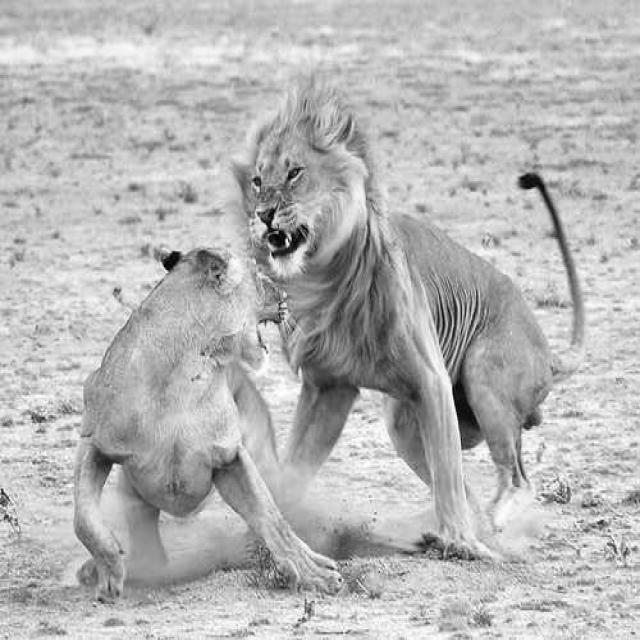Lion: (230, 84, 559, 498)
